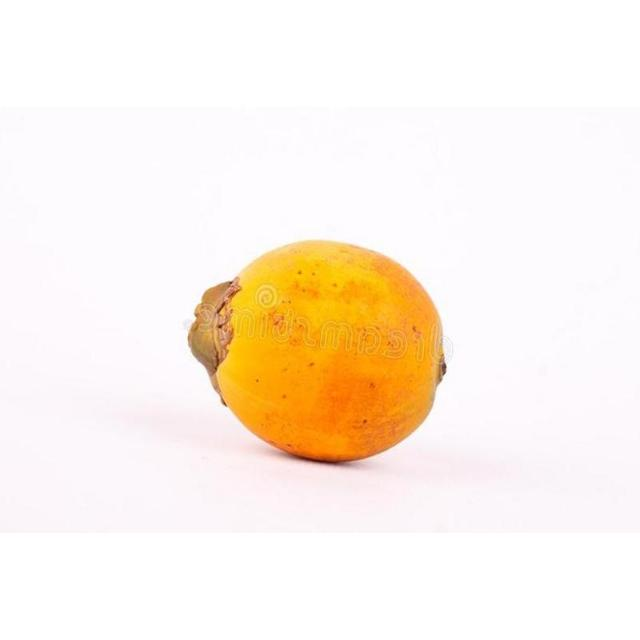good: (187, 240, 446, 465)
